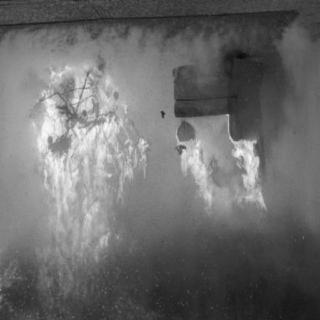Fire: (23, 56, 146, 272), (166, 89, 276, 223)
